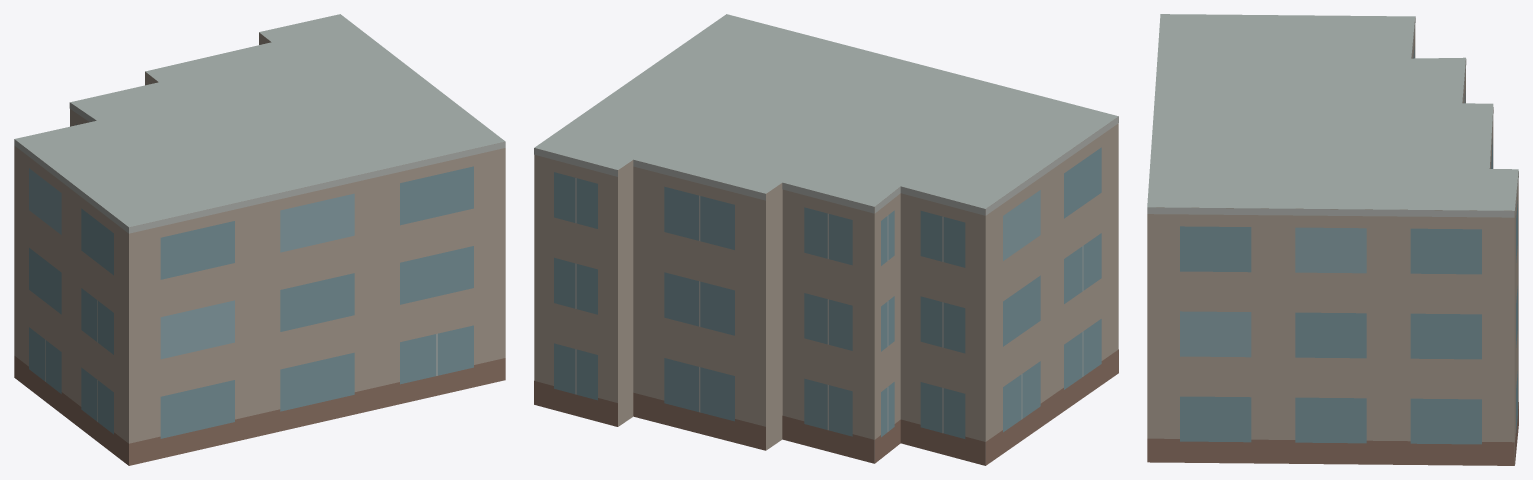
The model's file is survey-upis-32547161.glb.
3 renders of one model, left to right at view 1: azimuth 30°, elevation 25°; view 2: azimuth 150°, elevation 25°; view 3: azimuth 270°, elevation 25°, orthographic. The views are drawn at different scales.
Parts seen in each view (by area): view 1: survey-upis-32547161.tmp; view 2: survey-upis-32547161.tmp; view 3: survey-upis-32547161.tmp.
Part boxes in pixels (x1,y1,x2,y2): survey-upis-32547161.tmp: [14, 14, 505, 465]; survey-upis-32547161.tmp: [534, 14, 1118, 465]; survey-upis-32547161.tmp: [1147, 14, 1518, 465].
Size of the model in its own units: 15.15 by 9.15 by 12.09.
